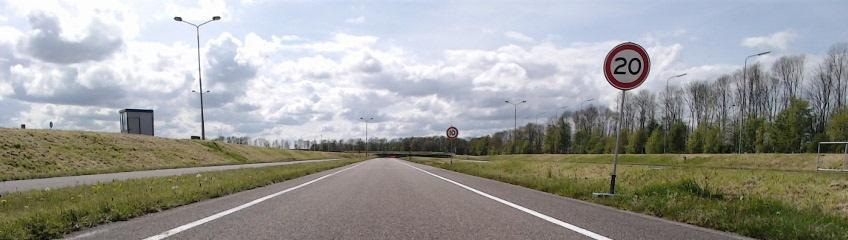Speed-limit-10km-h-: (446, 126, 459, 139)
Speed-limit-20km-h-: (603, 42, 651, 90)
